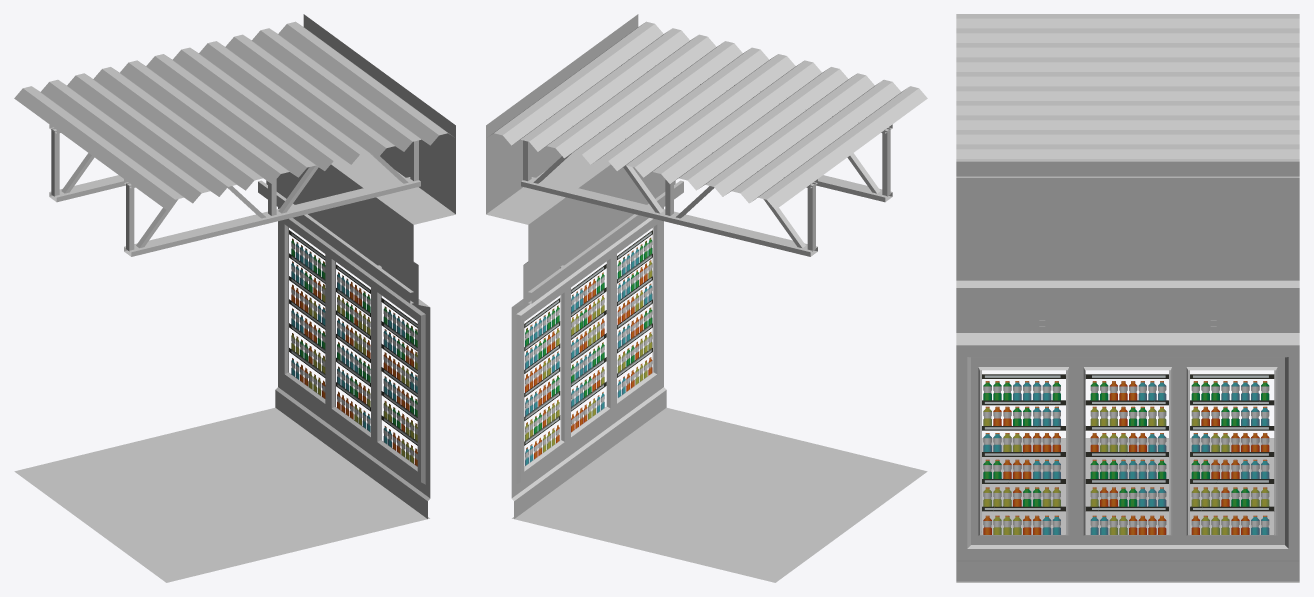
The model's file is Store_Build_Wall_R_0.dae.
3 renders of one model, left to right at view 1: azimuth 30°, elevation 25°; view 2: azimuth 150°, elevation 25°; view 3: azimuth 270°, elevation 25°, orthographic. The views are drawn at different scales.
Parts seen in each view (by area): view 1: Store_Wall_R; view 2: Store_Wall_R; view 3: Store_Wall_R.
Boxes of the visible parts, x1,y1,x2,y2 form: Store_Wall_R: (14,14,455,582); Store_Wall_R: (486,14,927,582); Store_Wall_R: (956,14,1299,582).
Size of the model in its own units: 2.2 by 2 by 2.8.
